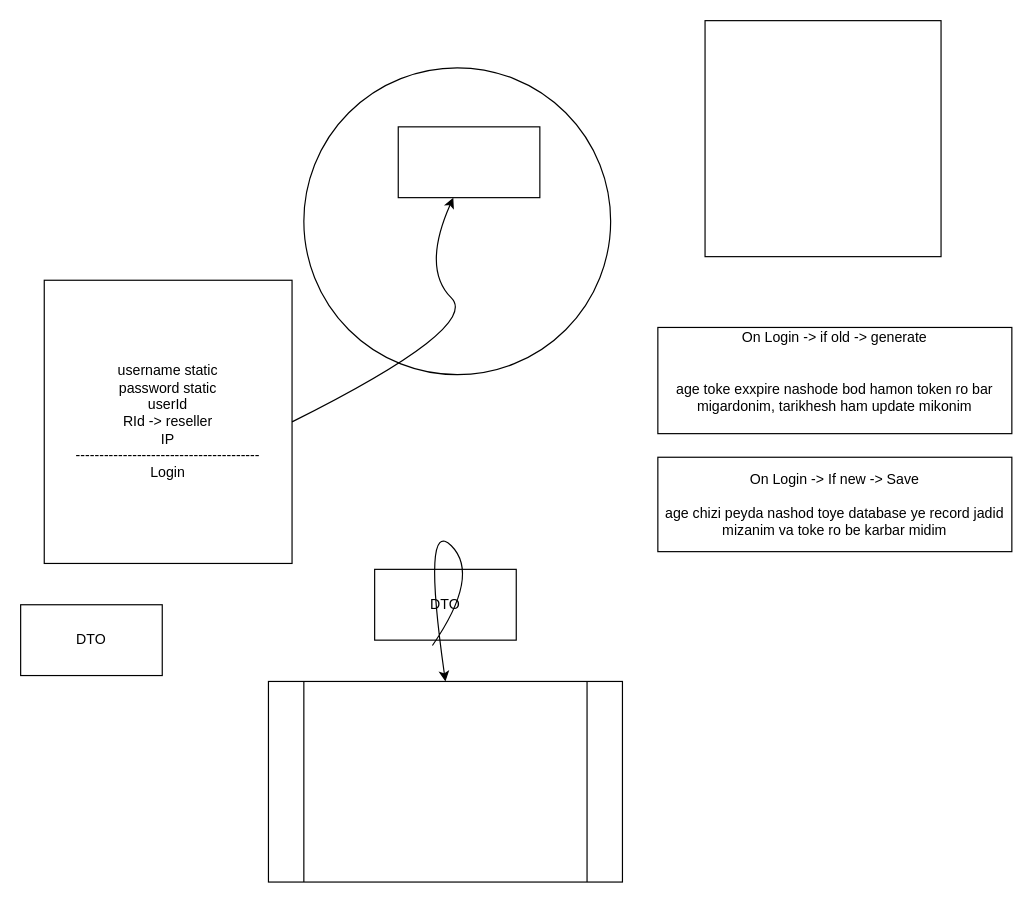
This 1033x903 diagram has some shape labels left out. Here are the shapes that lost their labels. From the top down, the centre of each, then its label:
At pixel 822 138: "expire_at toke token r_id ip user_id".
At pixel 468 162: "aggr".
